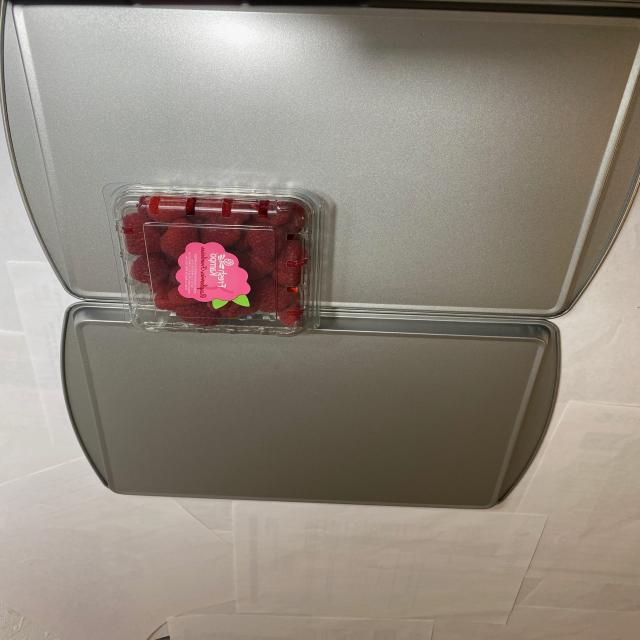raspberries: (123, 181, 310, 327)
